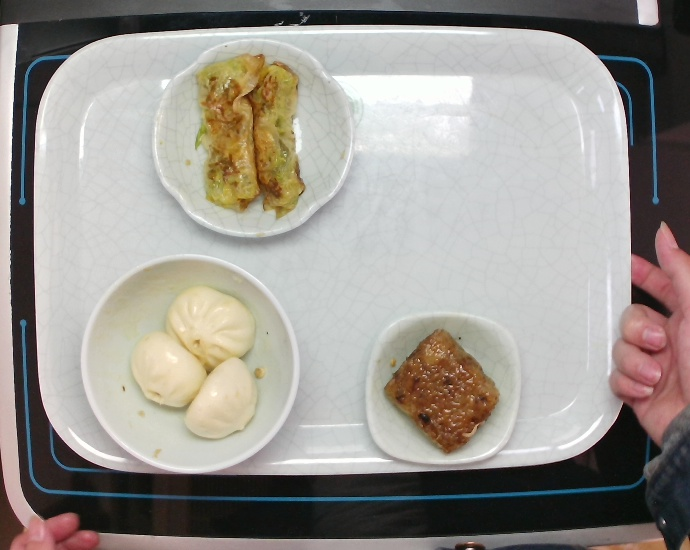JYsf-Ao_Yuan_Wan: (148, 36, 359, 239)
JYsf-Fan_Wan: (75, 253, 303, 481)
JYsf-Si_Fang_Die: (357, 306, 527, 471)
